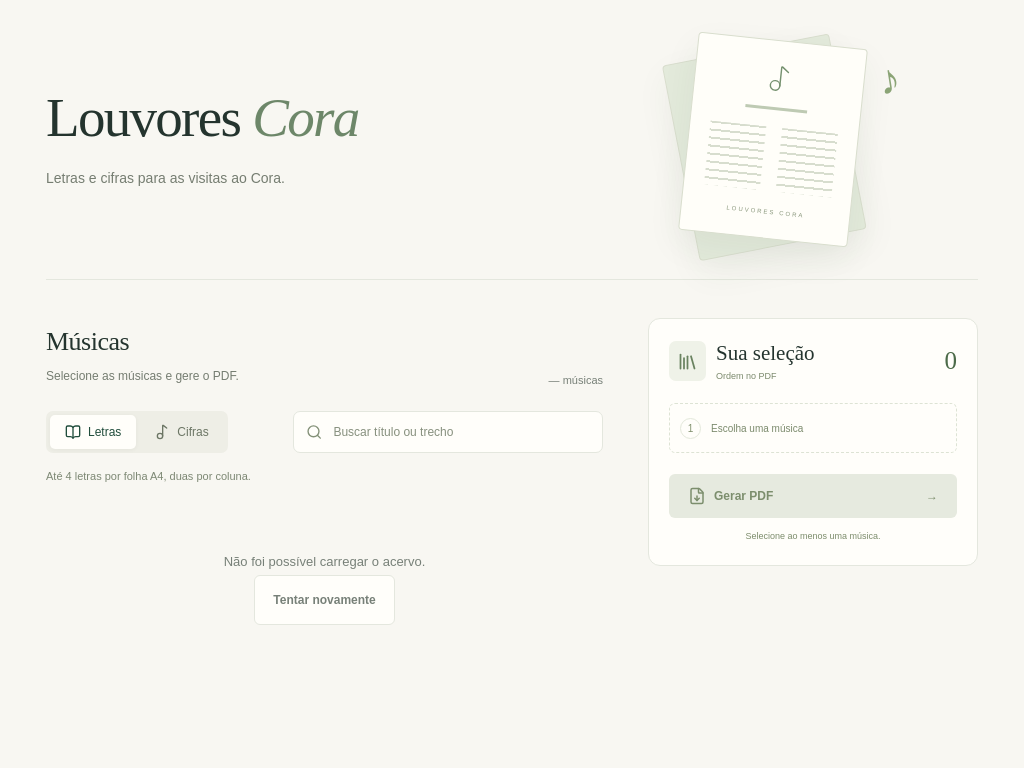
Scenario: offers retry after a load failure
Click the button "Tentar novamente".
click(325, 600)  # box [254,575,395,625]
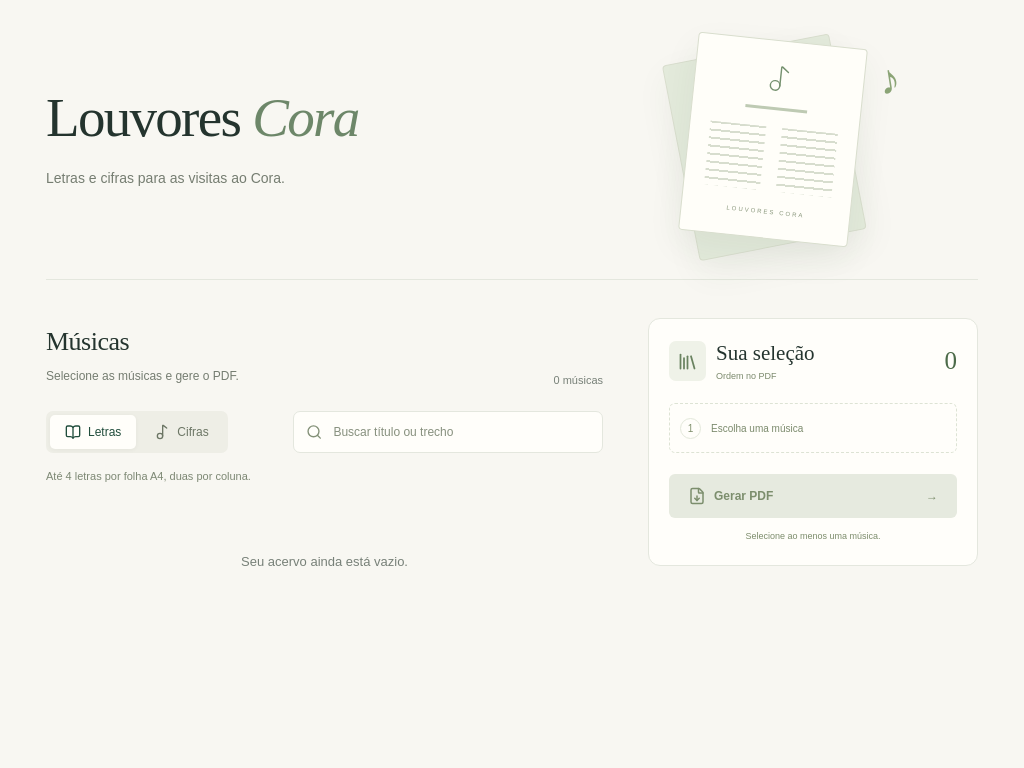
Expected: the text "Seu acervo ainda está vazio." is shown, [241,554,408,569]
